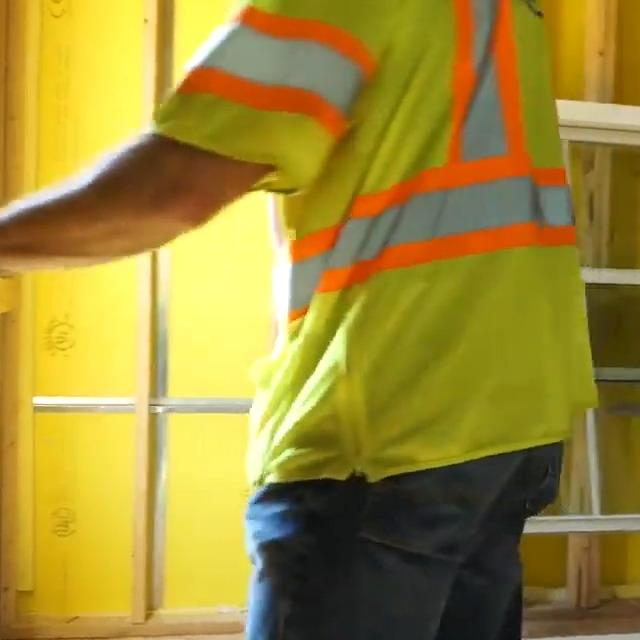Person: (0, 0, 577, 640)
Safety Vest: (152, 0, 602, 489)
